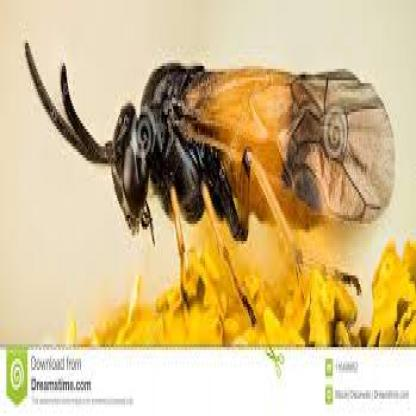sawfly: (24, 37, 398, 312)
